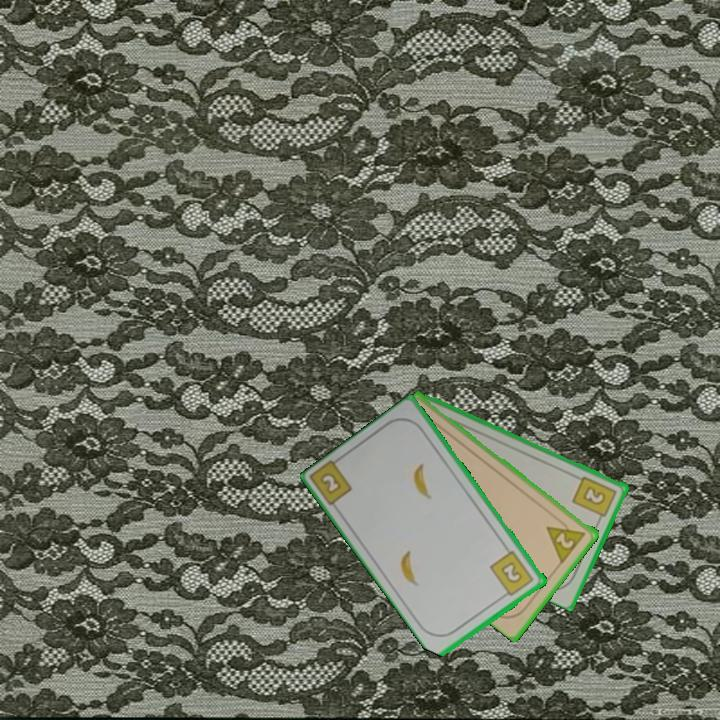2b: (569, 472, 620, 525), (487, 547, 537, 601), (317, 469, 344, 497)
2p: (543, 514, 590, 565)
